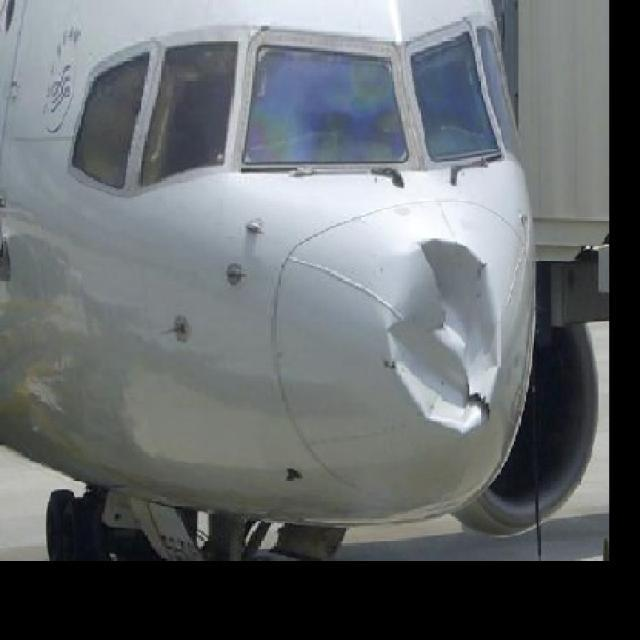dent: (380, 234, 511, 440)
